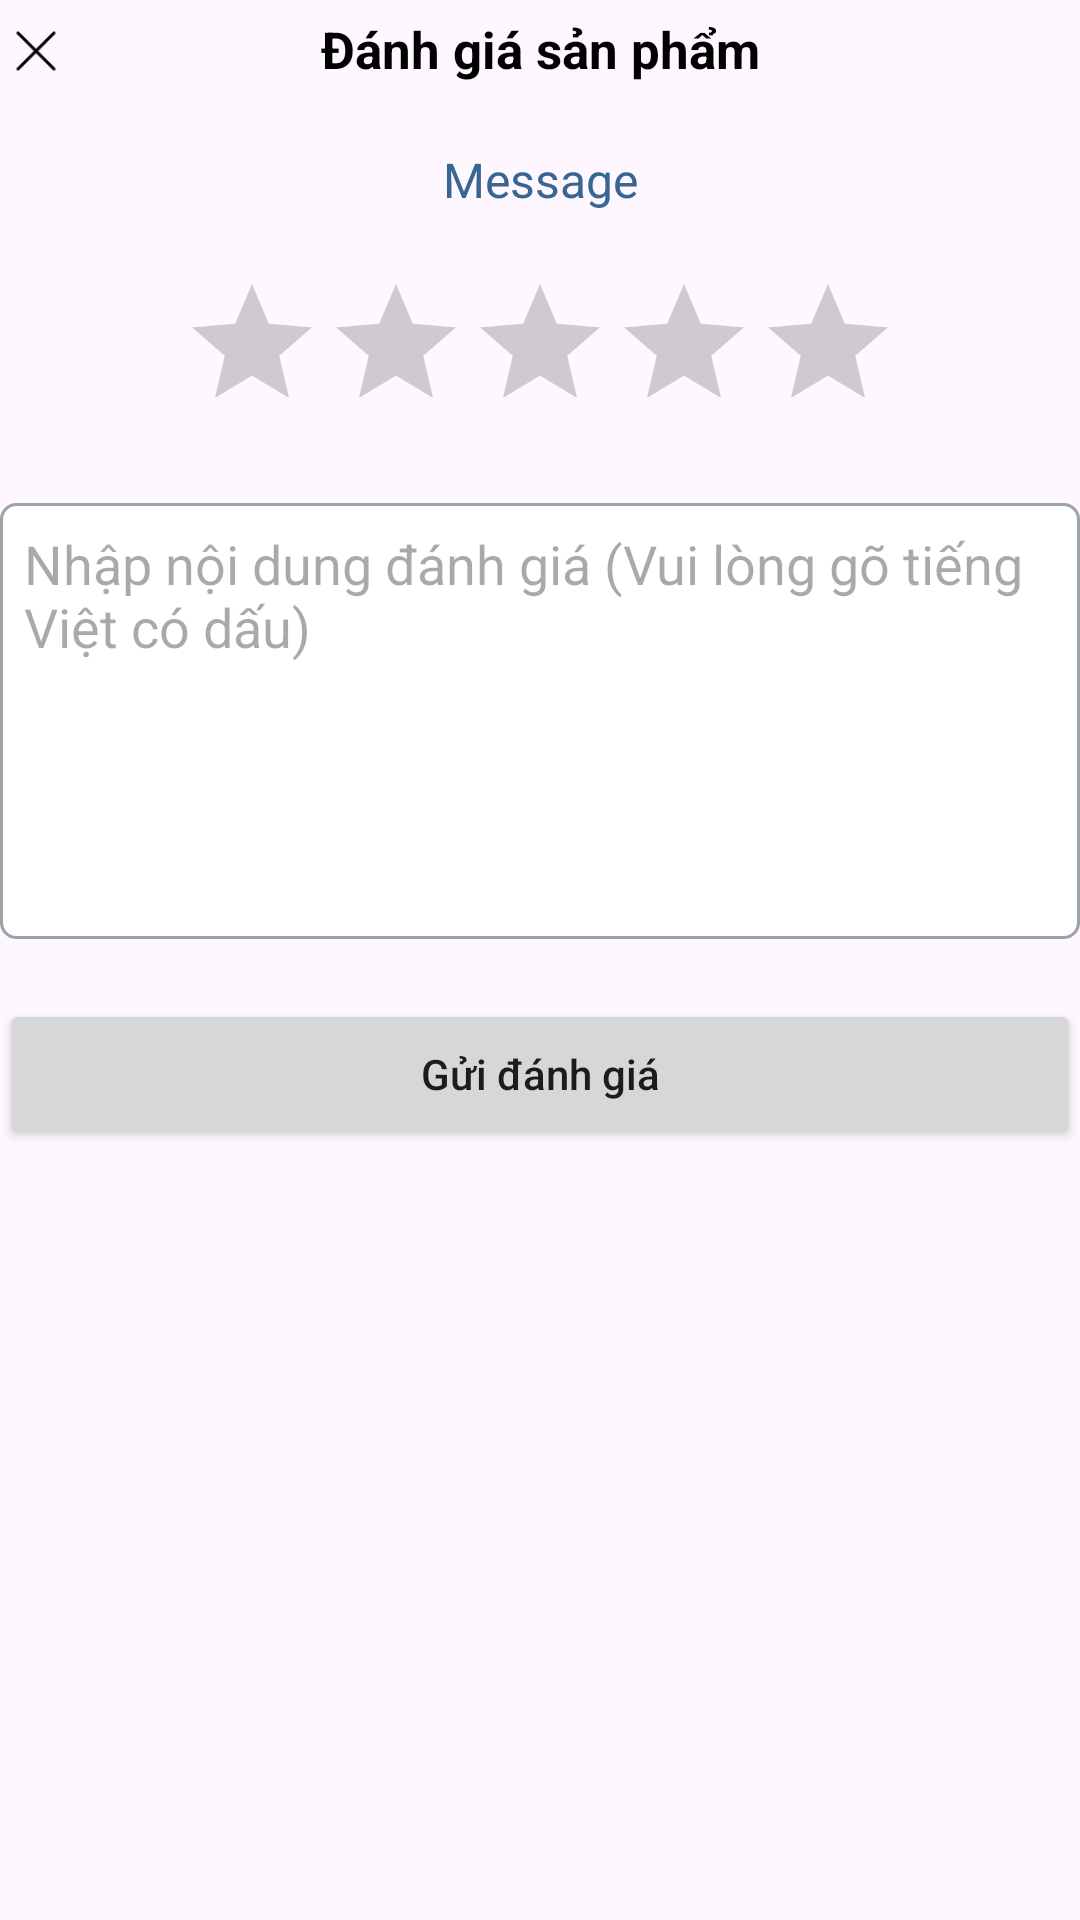

Where to tap for icons on this 1080px x 1920px app screen, as point (x, y):
close: point (36, 51)
